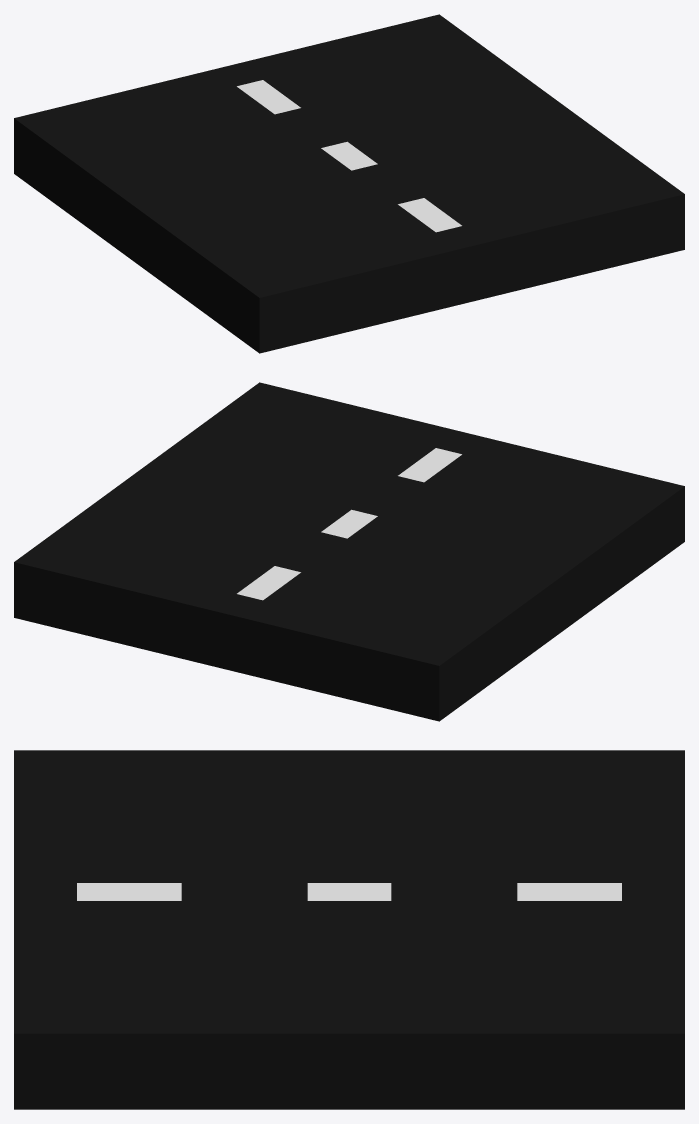
Rendered from road1-2.obj.
The picture shows the model from 3 angles, top to bottom: view 1: azimuth 30°, elevation 25°; view 2: azimuth 150°, elevation 25°; view 3: azimuth 270°, elevation 25°; orthographic projection. The views are drawn at different scales.
Size of the model in its own units: 3.2 by 0.4 by 3.2.
1 material, 1 textured.
